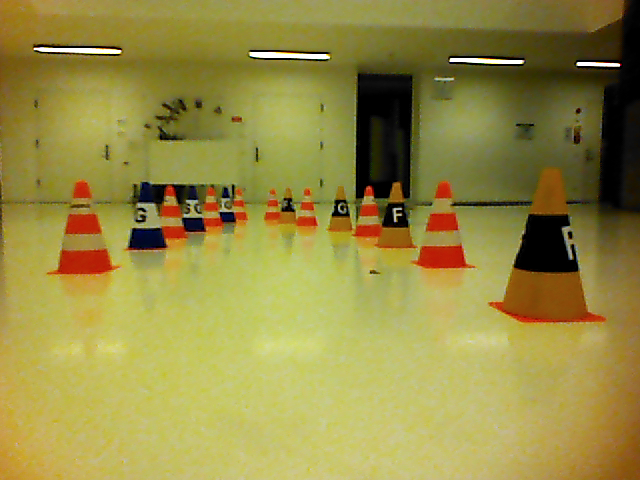bluecone: (129, 181, 167, 248), (184, 185, 206, 233)
orangeconesmall: (59, 180, 112, 272), (418, 180, 465, 266), (356, 185, 381, 236), (163, 185, 186, 237)
yellowcone: (504, 168, 592, 321), (378, 180, 413, 246), (330, 185, 352, 229)
